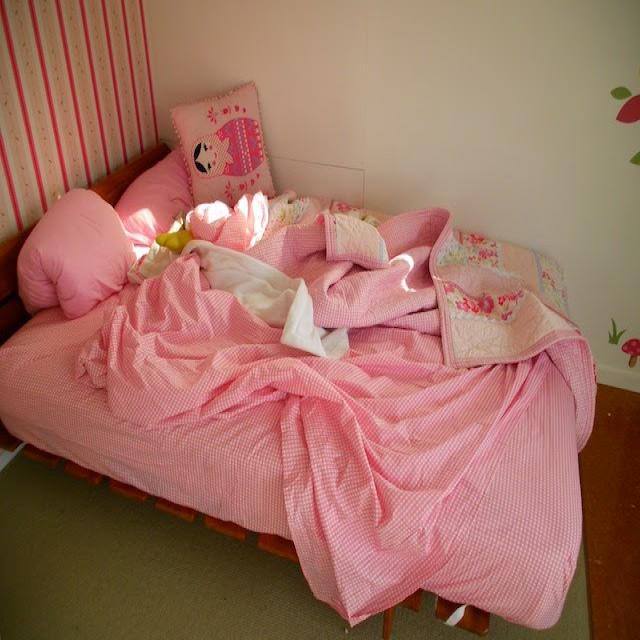bed: (0, 63, 587, 633)
